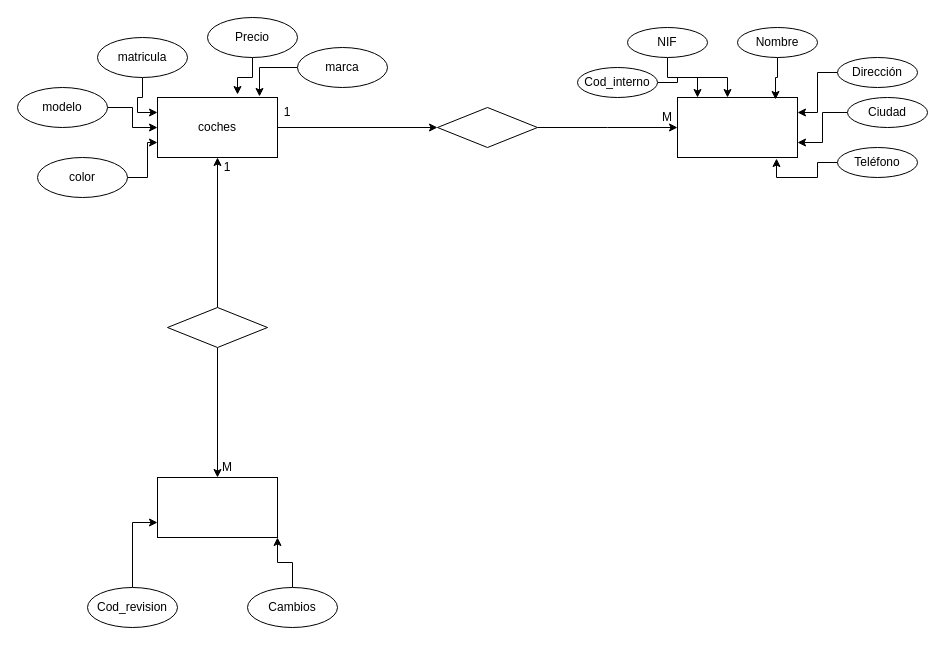
The diagram is 945 pixels wide and 645 high, and some of its shapes have lost their labels. The centre of each missing label's shape, as x and y in pixels:
"clientes" goes at pixel 737 127.
"realizan" goes at pixel 217 327.
"Revisiones" goes at pixel 217 507.
"venden" goes at pixel 487 127.
